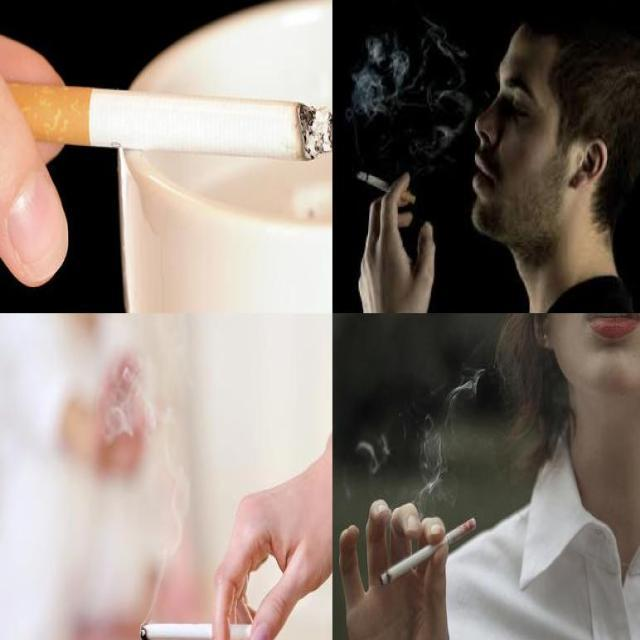smoking: (0, 71, 332, 201), (379, 516, 477, 586), (356, 172, 416, 206), (140, 625, 261, 639)
